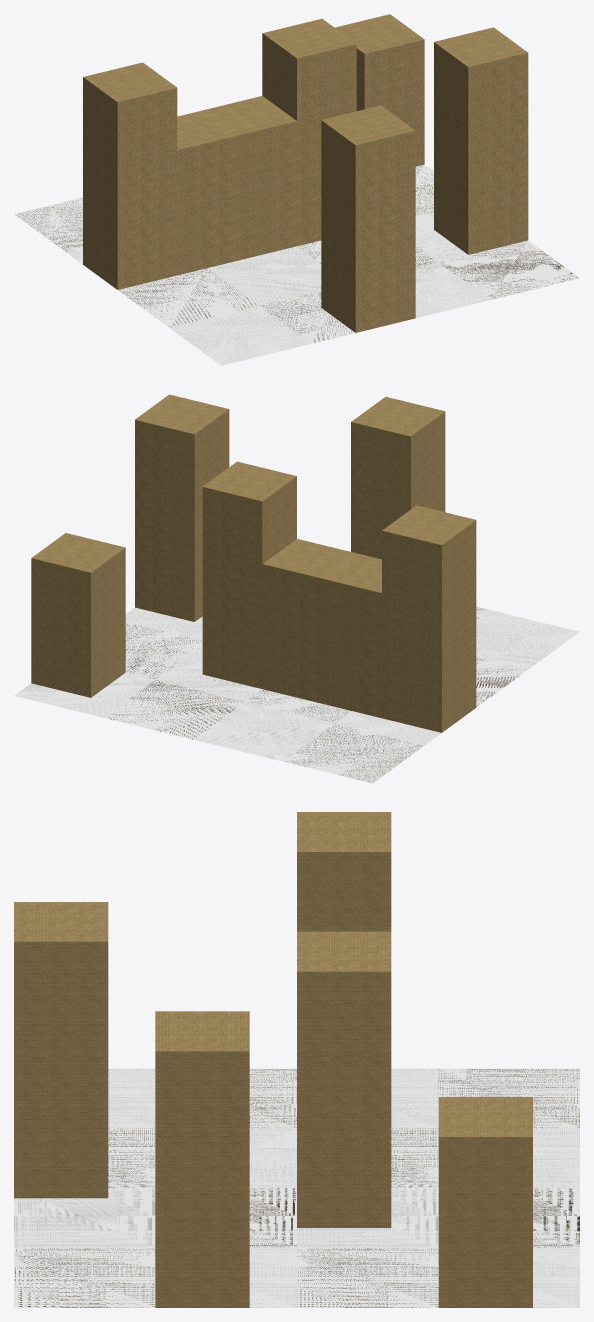
The picture shows the model from 3 angles, top to bottom: view 1: azimuth 30°, elevation 25°; view 2: azimuth 150°, elevation 25°; view 3: azimuth 270°, elevation 25°; orthographic projection. The views are drawn at different scales.
Parts seen in each view (by area): view 1: SketchUp (×10), group_12, group_5, group_9, group_15, group_17, group_8, group_0, group_11, group_14, group_10, group_13 (+7 smaller); view 2: SketchUp (×11), group_9, group_17, group_5, group_12, group_15, group_0, group_16, group_8, group_6, group_7, group_14 (+6 smaller); view 3: SketchUp (×16), group_15, group_5, group_12, group_17, group_9, group_10, group_4, group_11, group_13, group_14, group_16 (+1 smaller).
Part boxes in pixels (x1,y1,x2,y2): SketchUp (×10): (14, 164, 579, 365); group_12: (321, 105, 415, 207); group_5: (262, 18, 356, 120); group_9: (83, 62, 177, 164); group_15: (434, 27, 528, 129); group_17: (335, 14, 424, 110); group_8: (83, 140, 177, 227); group_0: (83, 202, 177, 289); group_11: (321, 183, 415, 270); group_14: (434, 105, 528, 192); group_10: (321, 245, 415, 332); group_13: (434, 167, 528, 254); SketchUp (×11): (14, 607, 579, 783); group_9: (382, 505, 476, 607); group_17: (31, 533, 125, 635); group_5: (202, 461, 296, 563); group_12: (351, 396, 445, 498); group_15: (135, 394, 229, 496); group_0: (382, 645, 476, 732); group_16: (31, 610, 125, 697); group_8: (382, 583, 476, 670); group_6: (262, 539, 356, 640); group_7: (322, 553, 381, 655); group_14: (135, 482, 202, 559); SketchUp (×16): (14, 1068, 579, 1307); group_15: (155, 1011, 249, 1136); group_5: (297, 931, 391, 1056); group_12: (14, 902, 108, 1027); group_17: (438, 1097, 532, 1222); group_9: (297, 812, 391, 931); group_10: (14, 1112, 108, 1198); group_4: (297, 1057, 391, 1142); group_11: (14, 1027, 108, 1112); group_13: (155, 1222, 249, 1307); group_14: (155, 1137, 249, 1222); group_16: (438, 1222, 532, 1307).
Size of the model in its own units: 236 by 236 by 118.
